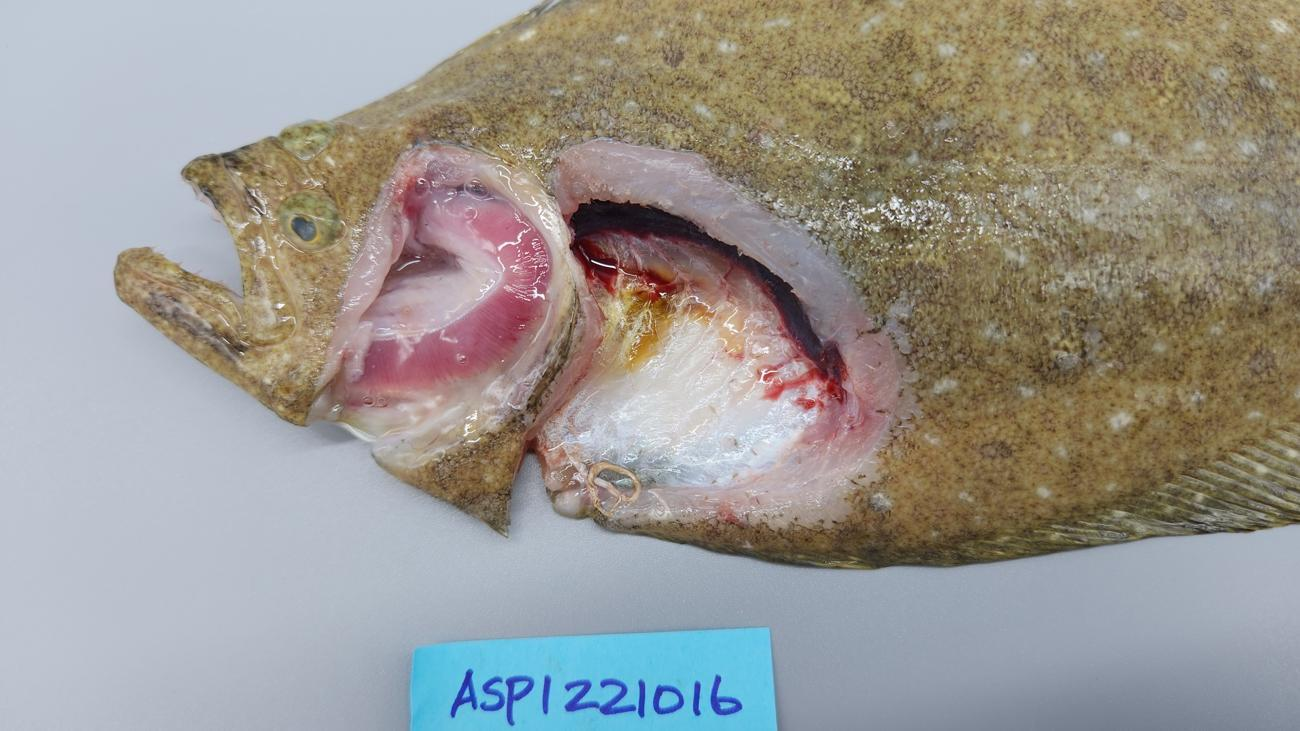SPASQ: (542, 245, 790, 444)
SPKIE: (568, 199, 838, 374)
